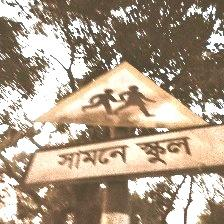School-in-front: (26, 59, 220, 189)
